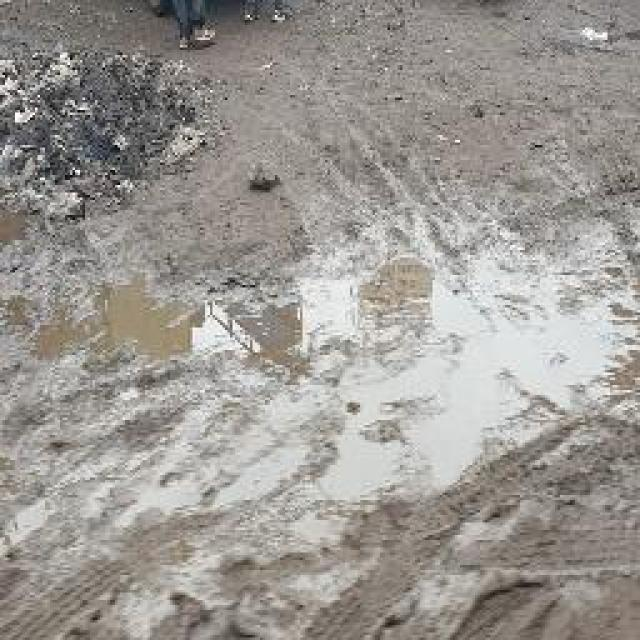waterlogging: (0, 238, 448, 402)
